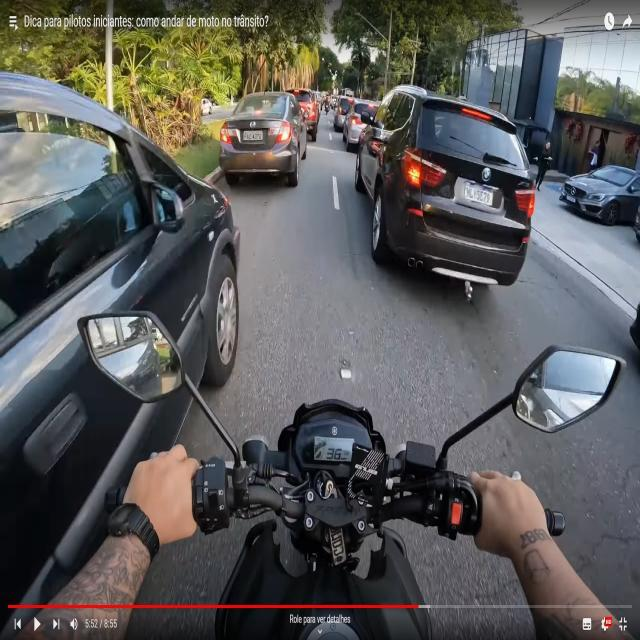Placa_mercosul_carro: (464, 182, 492, 205)
